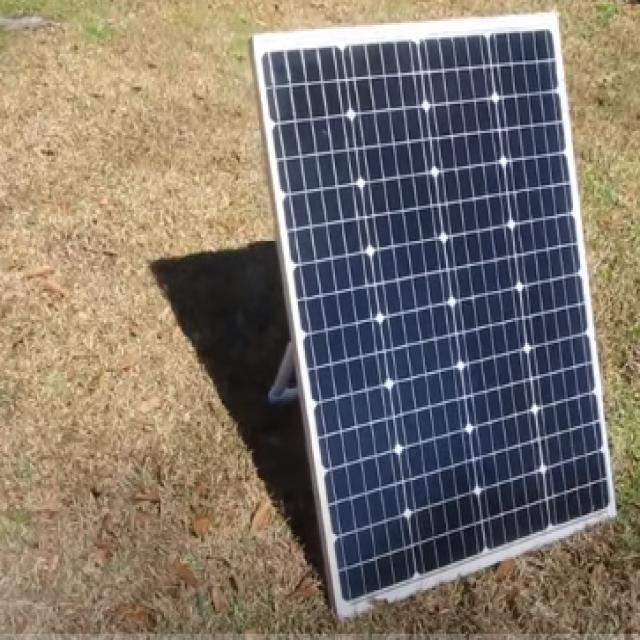Normal Solar Panel: (254, 18, 617, 619)
